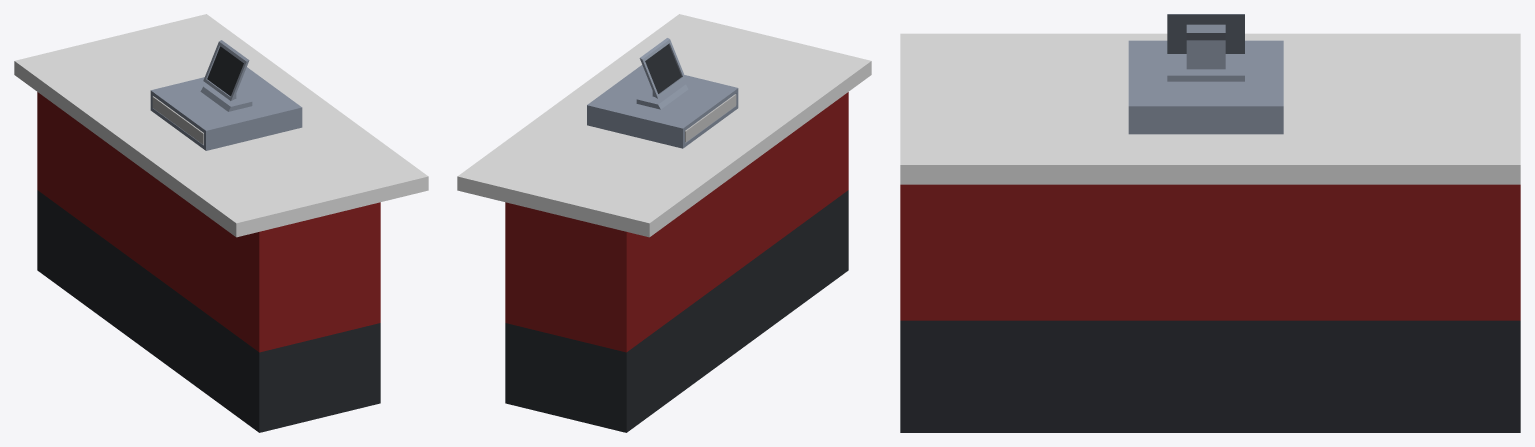
The model's file is Cash Register Open.fbx.
3 renders of one model, left to right at view 1: azimuth 30°, elevation 25°; view 2: azimuth 150°, elevation 25°; view 3: azimuth 270°, elevation 25°, orthographic. The views are drawn at different scales.
Visible parts, largest first — view 1: Middle Counter, Cash Register.001, Cash Register; view 2: Middle Counter, Cash Register.001, Cash Register; view 3: Middle Counter, Cash Register.001.
Part boxes in pixels (left/top/right/bottom): Middle Counter: left=14, top=14, right=428, bottom=432; Cash Register.001: left=150, top=40, right=302, bottom=150; Cash Register: left=152, top=96, right=203, bottom=144; Middle Counter: left=457, top=14, right=871, bottom=432; Cash Register.001: left=587, top=38, right=738, bottom=148; Cash Register: left=685, top=94, right=736, bottom=142; Middle Counter: left=900, top=33, right=1520, bottom=432; Cash Register.001: left=1128, top=14, right=1283, bottom=134.
Bounding box in the file's own units: 200 × 100 × 140.
